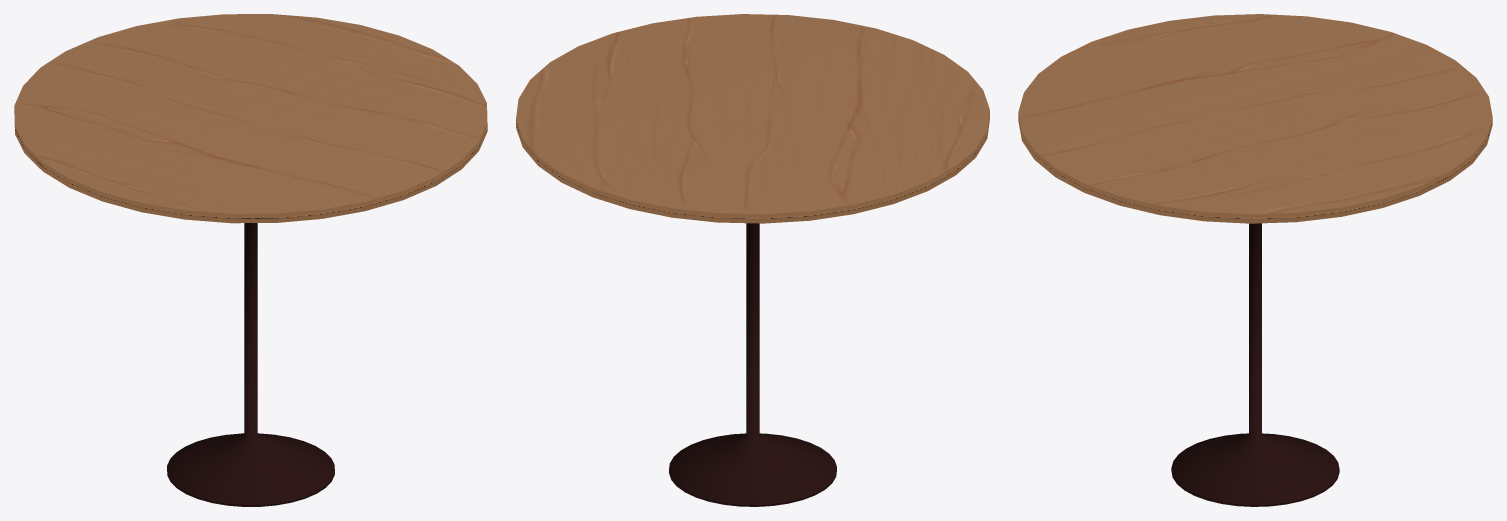
Rendered from tavel.fbx.
3 views of the same model, side by side, from view 1: azimuth 30°, elevation 25°; view 2: azimuth 150°, elevation 25°; view 3: azimuth 270°, elevation 25° (orthographic).
Parts seen in each view (by area): view 1: Cylinder; view 2: Cylinder; view 3: Cylinder.
Part boxes in pixels (left/top/right/bottom): Cylinder: left=14, top=14, right=487, bottom=506; Cylinder: left=516, top=14, right=989, bottom=506; Cylinder: left=1018, top=14, right=1492, bottom=506.
Bounding box in the file's own units: 306 × 254 × 306.
